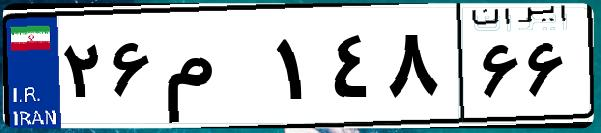1: (270, 28, 330, 110)
2: (57, 26, 110, 100)
4: (330, 28, 385, 110)
6: (475, 38, 525, 113), (525, 38, 570, 115), (110, 28, 158, 98)
8: (385, 28, 445, 110)
م: (158, 20, 270, 120)
